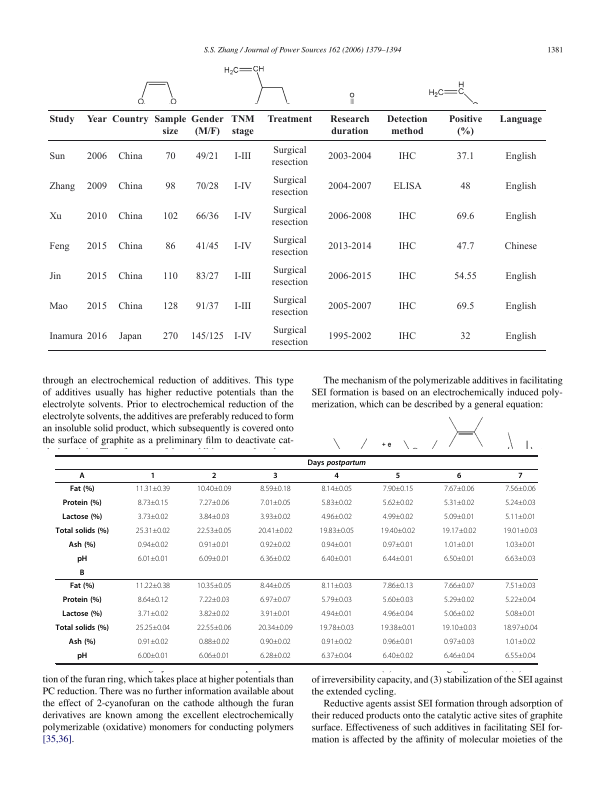borderless: (47, 109, 546, 350), (55, 454, 537, 663)
cell: (386, 115, 428, 138), (329, 115, 370, 138), (270, 175, 309, 199), (270, 146, 309, 169), (270, 205, 309, 228), (270, 235, 309, 258), (270, 265, 309, 288), (270, 295, 309, 318), (270, 325, 309, 348), (448, 115, 483, 138), (153, 115, 187, 138), (190, 115, 224, 138), (230, 115, 255, 138), (55, 526, 110, 536), (55, 623, 110, 633), (307, 458, 367, 467), (327, 181, 372, 193), (266, 115, 313, 126), (498, 115, 543, 126), (327, 152, 372, 163), (327, 211, 372, 222), (327, 241, 372, 252), (327, 271, 372, 282), (327, 301, 372, 312), (327, 331, 372, 342), (61, 512, 103, 522), (61, 609, 103, 619), (111, 115, 149, 126), (62, 498, 102, 508), (62, 595, 102, 605), (504, 181, 537, 193), (503, 241, 538, 252), (48, 331, 83, 342), (190, 331, 224, 342), (504, 152, 537, 163), (504, 211, 537, 222), (504, 271, 537, 282), (504, 301, 537, 312), (504, 331, 537, 342), (392, 181, 422, 193), (48, 181, 76, 193), (117, 181, 143, 193), (48, 115, 75, 126), (195, 181, 219, 193), (117, 152, 143, 163), (117, 211, 143, 222), (117, 241, 143, 252), (117, 271, 143, 282), (117, 301, 143, 312), (68, 540, 96, 550), (68, 637, 96, 647), (195, 152, 219, 163), (86, 181, 108, 193), (195, 211, 219, 222), (195, 241, 219, 252), (195, 271, 219, 282), (453, 271, 477, 282), (195, 301, 219, 312), (118, 331, 142, 342), (69, 484, 95, 494), (69, 581, 95, 591), (135, 485, 171, 492), (196, 485, 232, 492), (135, 527, 171, 534), (196, 527, 232, 534), (257, 527, 293, 534), (319, 527, 355, 534), (380, 527, 416, 534), (441, 527, 477, 534), (502, 527, 538, 534), (135, 582, 171, 589), (196, 582, 232, 589), (135, 624, 171, 631), (196, 624, 232, 631), (257, 624, 293, 631), (319, 624, 355, 631), (380, 624, 416, 631), (441, 624, 477, 631), (502, 624, 538, 631), (86, 115, 108, 126), (85, 152, 107, 163), (85, 211, 107, 222), (48, 241, 70, 252), (86, 241, 108, 252), (86, 271, 108, 282), (86, 301, 108, 312), (86, 331, 108, 342), (259, 485, 292, 492), (320, 485, 353, 492), (504, 485, 537, 492), (259, 499, 292, 506), (320, 499, 353, 506), (504, 499, 537, 506), (259, 513, 292, 520), (320, 513, 353, 520), (504, 513, 537, 520), (259, 541, 292, 548), (320, 541, 353, 548), (504, 541, 537, 548), (259, 555, 292, 562), (320, 555, 353, 562), (504, 555, 537, 562), (259, 582, 292, 589), (320, 582, 353, 589), (504, 582, 537, 589), (259, 596, 292, 603), (320, 596, 353, 603), (504, 596, 537, 603), (259, 610, 292, 617), (320, 610, 353, 617), (504, 610, 537, 617), (259, 638, 292, 645), (320, 638, 353, 645), (504, 638, 537, 645), (259, 652, 292, 659), (320, 652, 353, 659), (504, 652, 537, 659), (233, 181, 252, 193), (382, 485, 414, 492), (443, 485, 475, 492), (137, 499, 169, 506), (198, 499, 230, 506), (382, 499, 414, 506), (443, 499, 475, 506), (137, 513, 169, 520), (198, 513, 230, 520), (382, 513, 414, 520), (443, 513, 475, 520), (137, 541, 169, 548), (198, 541, 230, 548), (382, 541, 414, 548), (443, 541, 475, 548), (137, 555, 169, 562), (198, 555, 230, 562), (382, 555, 414, 562), (443, 555, 475, 562), (382, 582, 414, 589), (443, 582, 475, 589), (137, 596, 169, 603), (198, 596, 230, 603), (382, 596, 414, 603), (443, 596, 475, 603), (137, 610, 169, 617), (198, 610, 230, 617), (382, 610, 414, 617), (443, 610, 475, 617), (137, 638, 169, 645), (198, 638, 230, 645), (382, 638, 414, 645), (443, 638, 475, 645), (137, 652, 169, 659), (198, 652, 230, 659), (382, 652, 414, 659), (443, 652, 475, 659), (397, 152, 417, 163), (455, 152, 475, 163), (397, 211, 417, 222), (455, 211, 475, 222), (397, 241, 417, 252), (455, 241, 475, 252), (397, 271, 417, 282), (48, 301, 68, 312), (397, 301, 417, 312), (455, 301, 475, 312), (397, 331, 417, 342), (233, 152, 252, 163), (233, 211, 252, 222), (233, 241, 252, 252), (233, 271, 252, 282), (233, 301, 252, 312), (233, 331, 252, 342), (48, 152, 66, 163), (162, 211, 179, 222), (162, 301, 179, 312), (162, 331, 179, 342), (162, 271, 178, 282), (48, 211, 62, 222), (48, 271, 62, 282), (164, 181, 176, 193), (459, 181, 471, 193), (164, 152, 176, 163), (164, 241, 176, 252), (459, 331, 471, 342), (76, 554, 88, 564), (76, 651, 88, 661), (79, 471, 86, 481), (333, 471, 340, 481), (150, 471, 156, 481), (211, 471, 217, 481), (272, 471, 278, 481), (395, 471, 401, 481), (456, 471, 462, 481), (517, 471, 523, 481), (79, 568, 85, 578)
